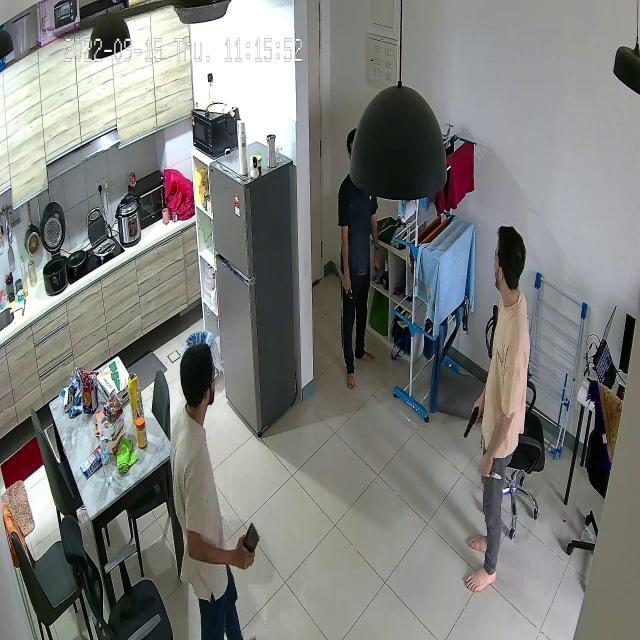Gun: (454, 394, 489, 448)
